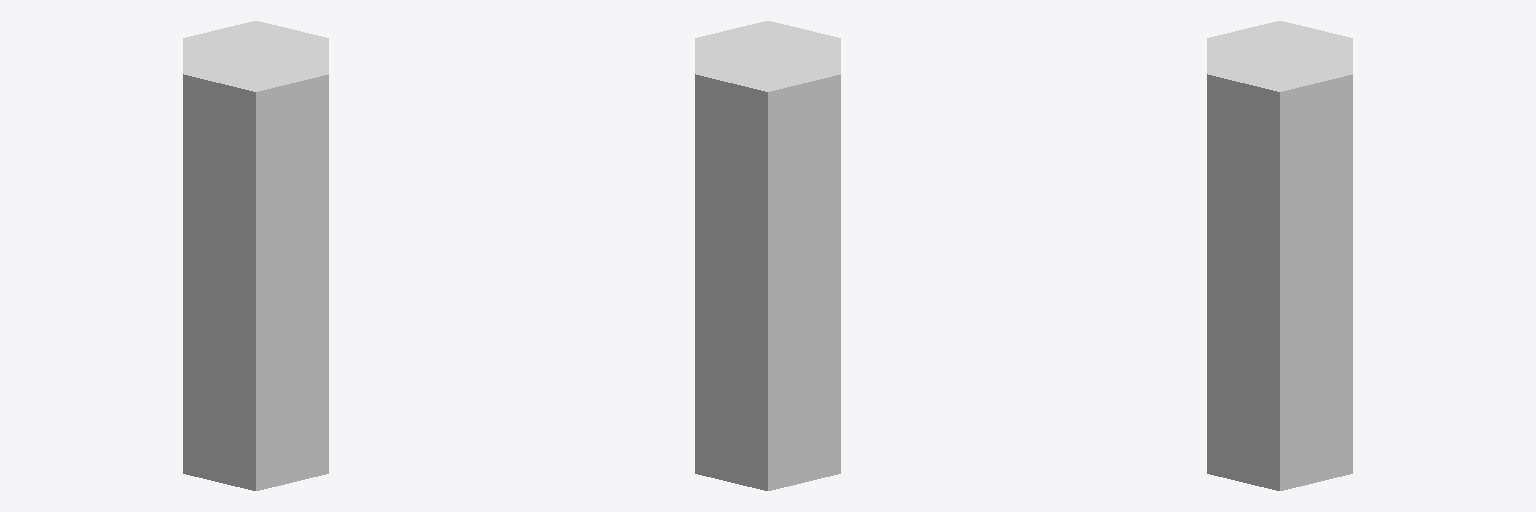
URDF robot description (onshape):
<?xml version="1.0"?>
<robot name="onshape">
    <link name="hex_05_15">
        <visual>
            <origin xyz="0 0 0" rpy="-1.570796326794896558 -1.570796326794896558 0" />
            <geometry>
            <mesh filename="separate_wall_shapes_small/shape_objects/object_hex_05_15.obj"/>
            </geometry>
            <material name="hex_05_15_material">
            <color rgba="0.91764705882352937127 0.91764705882352937127 0.91764705882352937127 1.0"/>
            </material>
        </visual>
        <collision>
            <origin xyz="0 0 0" rpy="-1.570796326794896558 -1.570796326794896558 0" />
            <geometry>
            <mesh filename="separate_wall_shapes_small/shape_objects/object_hex_05_15.obj"/>
            </geometry>
        </collision>
        <inertial>
            <origin xyz="0 0 0" rpy="0 0 0"/>
            <mass value=".375" />
            <inertia ixx="0.01" ixy="0" ixz="0" iyy="0.01" iyz="0" izz="0.01" />  <!-- Adjust these values based on your object -->
        </inertial>
    </link>


</robot>

--- What the picture shows (computed from the rendered views, not written in the file) ---
3 views of the same robot in one strip: view 1: azimuth 30°, elevation 25°; view 2: azimuth 150°, elevation 25°; view 3: azimuth 270°, elevation 25° (orthographic).
Model onshape with 1 links and 0 joints (none), rooted at hex_05_15, posed all joints at 0.
Links seen in each view (by area): view 1: hex_05_15; view 2: hex_05_15; view 3: hex_05_15.
Boxes of the visible links, x1,y1,x2,y2 form: hex_05_15: (183,21,328,490); hex_05_15: (695,21,840,490); hex_05_15: (1207,21,1352,490).
Bounding box of the posed robot: 0.0577 × 0.05 × 0.15 m (x, y, z).
1 mesh visuals loaded from 1 distinct referenced files (1 OBJ).